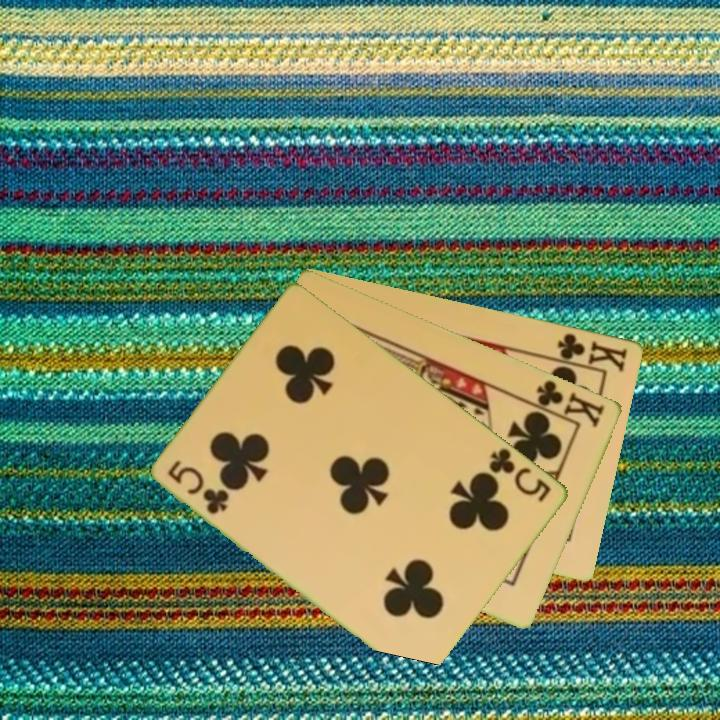5c: (485, 444, 555, 505), (164, 456, 233, 517)
Kc: (525, 376, 608, 431), (547, 329, 631, 374)
